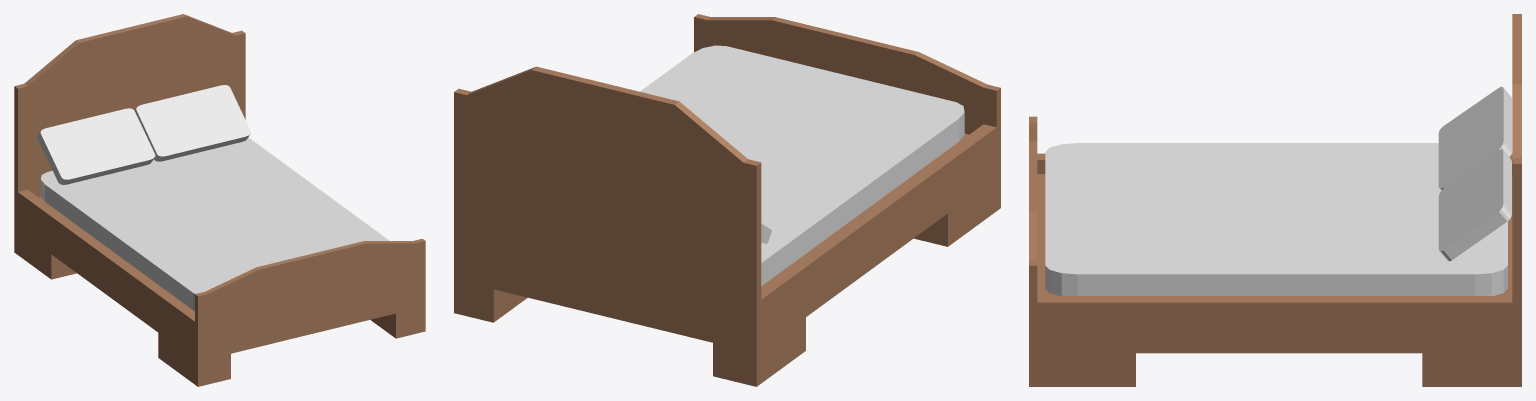
The model's file is bedLight.fbx.
3 renders of one model, left to right at view 1: azimuth 30°, elevation 25°; view 2: azimuth 150°, elevation 25°; view 3: azimuth 270°, elevation 25°, orthographic. The views are drawn at different scales.
Parts seen in each view (by area): view 1: Cube.014, Cube.013, Cube.011, Cube.012; view 2: Cube.014, Cube.013; view 3: Cube.013, Cube.014, Cube.012, Cube.011.
Part boxes in pixels (box(x1,y1,x2,y2)): Cube.014: box(14, 14, 425, 386); Cube.013: box(41, 137, 389, 310); Cube.011: box(37, 108, 155, 184); Cube.012: box(135, 85, 250, 161); Cube.014: box(454, 14, 1000, 386); Cube.013: box(640, 45, 964, 285); Cube.013: box(1045, 143, 1507, 295); Cube.014: box(1029, 14, 1521, 386); Cube.012: box(1438, 149, 1511, 261); Cube.011: box(1438, 86, 1511, 190).
Bounding box in the file's own units: 343 × 284 × 480.
